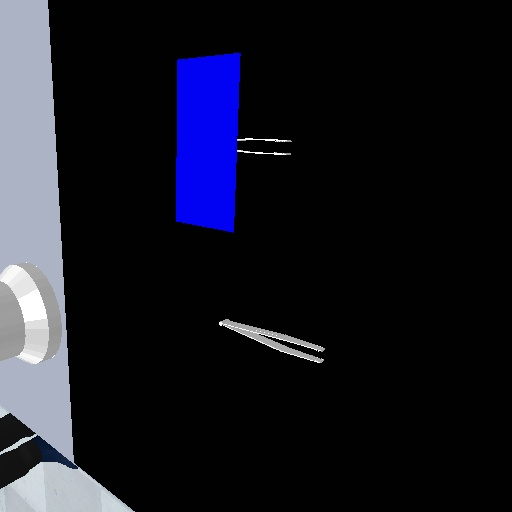pinza: (215, 311, 331, 366), (236, 133, 295, 158)
